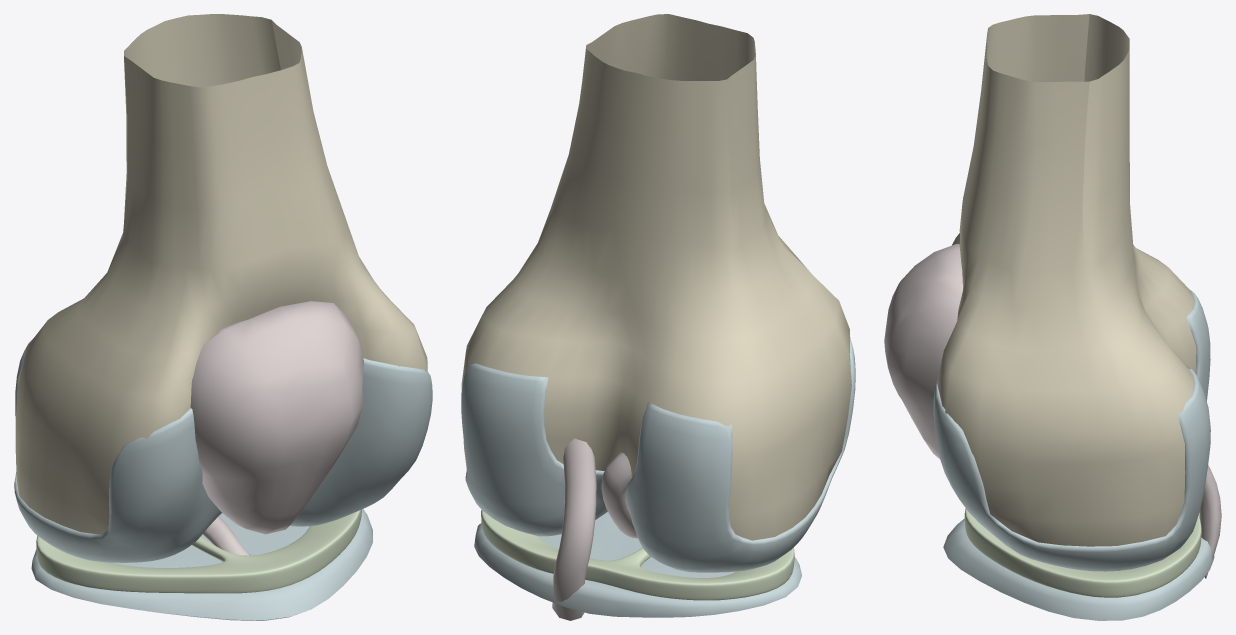
File: rodilla_v01.fbx
3 renders of one model, left to right at view 1: azimuth 30°, elevation 25°; view 2: azimuth 150°, elevation 25°; view 3: azimuth 270°, elevation 25°, orthographic. The views are drawn at different scales.
Parts seen in each view (by area): view 1: mFemur03, mPatella01, mFemur_capa02, mTibia01_capa01, menisculo_v03, mLigamento01; view 2: mFemur03, mFemur_capa02, mTibia01_capa01, menisculo_v03, mLigamento02, mLigamento01; view 3: mFemur03, mFemur_capa02, mPatella01, mTibia01_capa01, menisculo_v03, mLigamento02.
Boxes of the visible parts, x1,y1,x2,y2 form: mFemur03: [15, 14, 427, 534]; mPatella01: [190, 301, 363, 534]; mFemur_capa02: [14, 339, 432, 562]; mTibia01_capa01: [31, 509, 372, 620]; menisculo_v03: [36, 509, 361, 593]; mLigamento01: [202, 516, 250, 555]; mFemur03: [461, 14, 851, 540]; mFemur_capa02: [461, 338, 855, 572]; mTibia01_capa01: [474, 512, 801, 617]; menisculo_v03: [481, 510, 794, 600]; mLigamento02: [552, 438, 596, 620]; mLigamento01: [601, 452, 637, 538]; mFemur03: [937, 14, 1196, 546]; mFemur_capa02: [933, 290, 1210, 571]; mPatella01: [884, 244, 962, 458]; mTibia01_capa01: [943, 513, 1214, 620]; menisculo_v03: [964, 508, 1201, 597]; mLigamento02: [1199, 465, 1221, 578].
Size of the model in its own units: 7.81 by 12.17 by 7.18.
